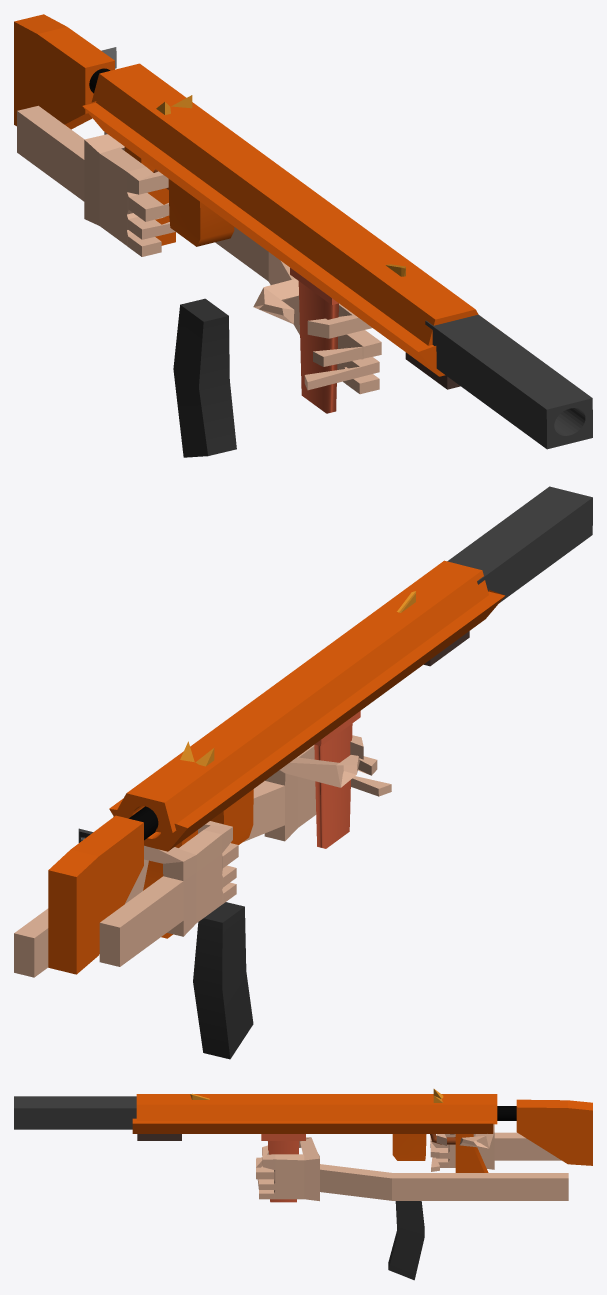
Rendered from ar reload 2.fbx.
The picture shows the model from 3 angles, top to bottom: view 1: azimuth 30°, elevation 25°; view 2: azimuth 150°, elevation 25°; view 3: azimuth 270°, elevation 25°; orthographic projection. The views are drawn at different scales.
Parts seen in each view (by area): view 1: Cube.011, Cube.005, Cube, Cube.008, Cube.004, Cube.013, Cube.009, Cube.012, Cube.010, Cube.002; view 2: Cube.011, Cube, Cube.009, Cube.013, Cube.005, Cube.008, Cube.004, Cube.012, Cube.010; view 3: Cube.013, Cube.011, Cube.008, Cube.009, Cube.005, Cube, Cube.004, Cube.010, Cube.002, Cube.012, Cube.003, Cylinder.002.
Part boxes in pixels (left/top/right/bottom): Cube.011: left=91, top=63, right=478, bottom=345; Cube.005: left=425, top=314, right=592, bottom=449; Cube: left=17, top=105, right=175, bottom=256; Cube.008: left=82, top=101, right=445, bottom=376; Cube.004: left=173, top=298, right=236, bottom=457; Cube.013: left=104, top=132, right=381, bottom=394; Cube.009: left=14, top=14, right=114, bottom=129; Cube.012: left=290, top=268, right=338, bottom=413; Cube.010: left=168, top=179, right=234, bottom=246; Cube.002: left=124, top=147, right=175, bottom=245; Cube.011: left=113, top=560, right=488, bottom=832; Cube: left=99, top=821, right=238, bottom=966; Cube.009: left=48, top=815, right=143, bottom=974; Cube.013: left=14, top=735, right=391, bottom=977; Cube.005: left=447, top=486, right=592, bottom=602; Cube.008: left=109, top=590, right=504, bottom=851; Cube.004: left=193, top=902, right=253, bottom=1059; Cube.012: left=314, top=711, right=360, bottom=848; Cube.010: left=210, top=789, right=253, bottom=844; Cube.013: left=256, top=1137, right=568, bottom=1201; Cube.011: left=136, top=1094, right=497, bottom=1124; Cube.008: left=132, top=1118, right=493, bottom=1133; Cube.009: left=516, top=1099, right=592, bottom=1165; Cube.005: left=14, top=1096, right=136, bottom=1129; Cube: left=430, top=1124, right=561, bottom=1171; Cube.004: left=388, top=1201, right=424, bottom=1280; Cube.010: left=392, top=1134, right=426, bottom=1160; Cube.002: left=455, top=1134, right=488, bottom=1172; Cube.012: left=261, top=1134, right=305, bottom=1202; Cube.003: left=137, top=1134, right=181, bottom=1140; Cylinder.002: left=497, top=1106, right=516, bottom=1120.
Size of the model in its own units: 224 by 640 by 1822.
11 materials, 1 textured.
